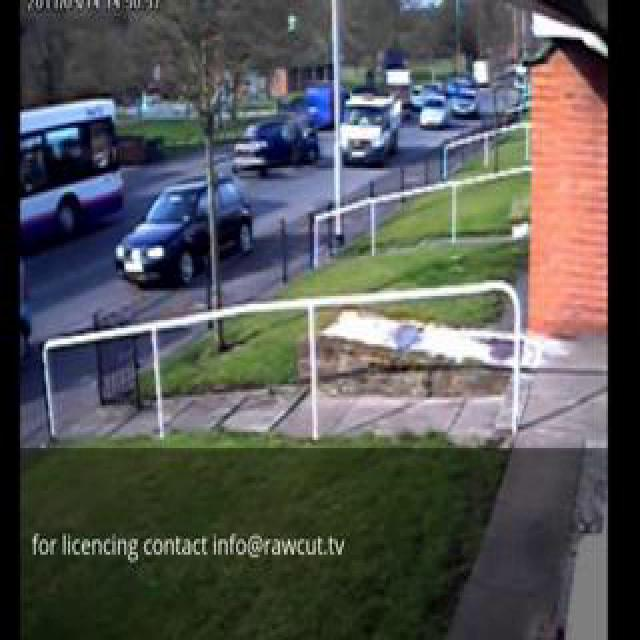road accidents: (240, 0, 459, 425)
